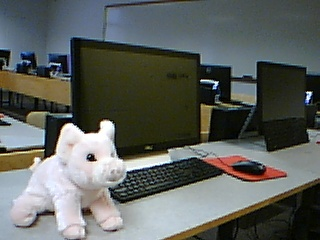piggy: (9, 118, 129, 240)
